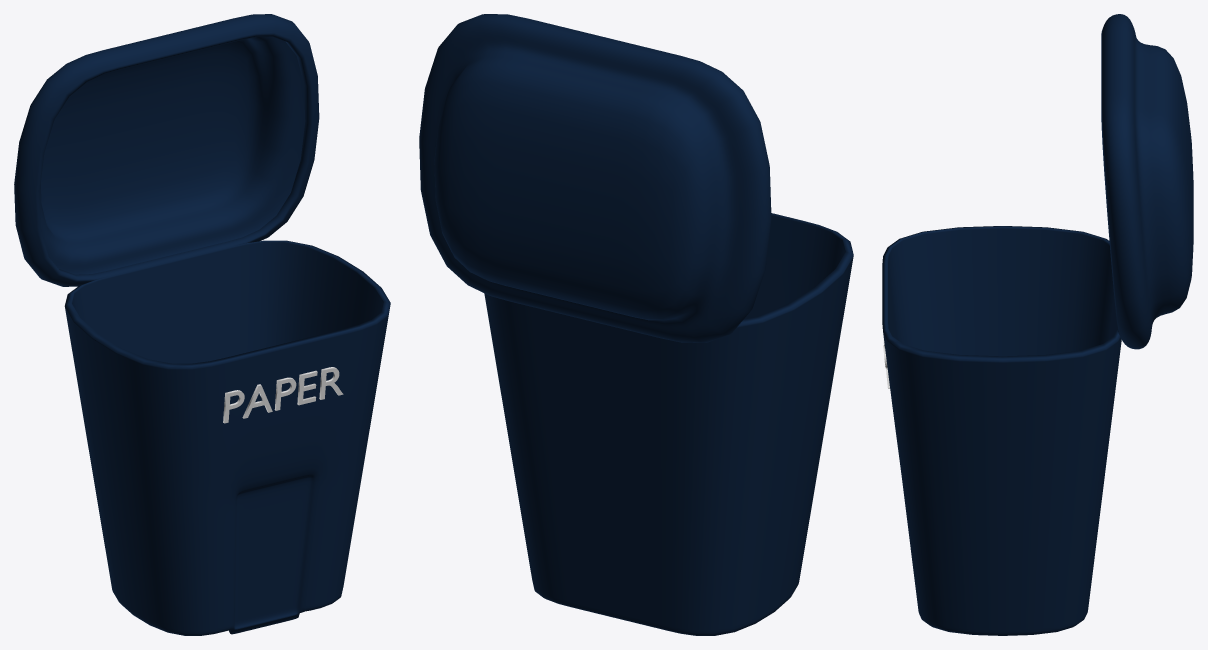
File: Paper Bin.fbx
The picture shows the model from 3 angles, left to right: view 1: azimuth 30°, elevation 25°; view 2: azimuth 150°, elevation 25°; view 3: azimuth 270°, elevation 25°; orthographic projection. The views are drawn at different scales.
Parts seen in each view (by area): view 1: Cube, Cube.001, Text; view 2: Cube, Cube.001; view 3: Cube, Cube.001.
Boxes of the visible parts, bbox=[...] form: Cube: bbox=[64, 240, 390, 635]; Cube.001: bbox=[14, 14, 319, 286]; Text: bbox=[223, 367, 343, 423]; Cube: bbox=[484, 213, 853, 635]; Cube.001: bbox=[419, 14, 771, 342]; Cube: bbox=[882, 226, 1121, 635]; Cube.001: bbox=[1101, 14, 1193, 349].
Bounding box in the file's own units: 275 × 456 × 240.
